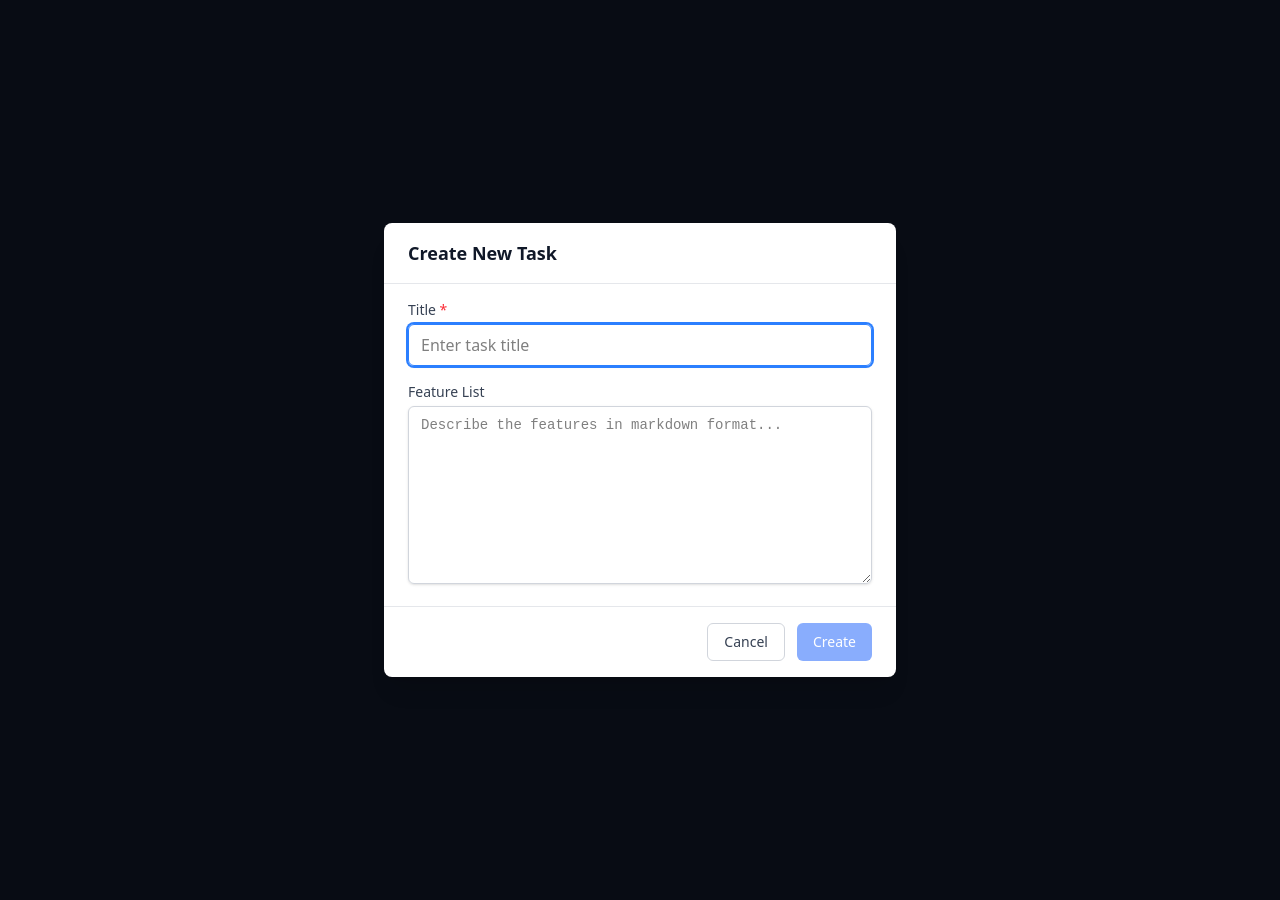
Scenario: TaskCreateModal › Loading State › should show loading state while creating
The image size is (1280, 900).
Type "Test Task" into the field labelled "Title *" at (640, 345), box [408,324,872,366]
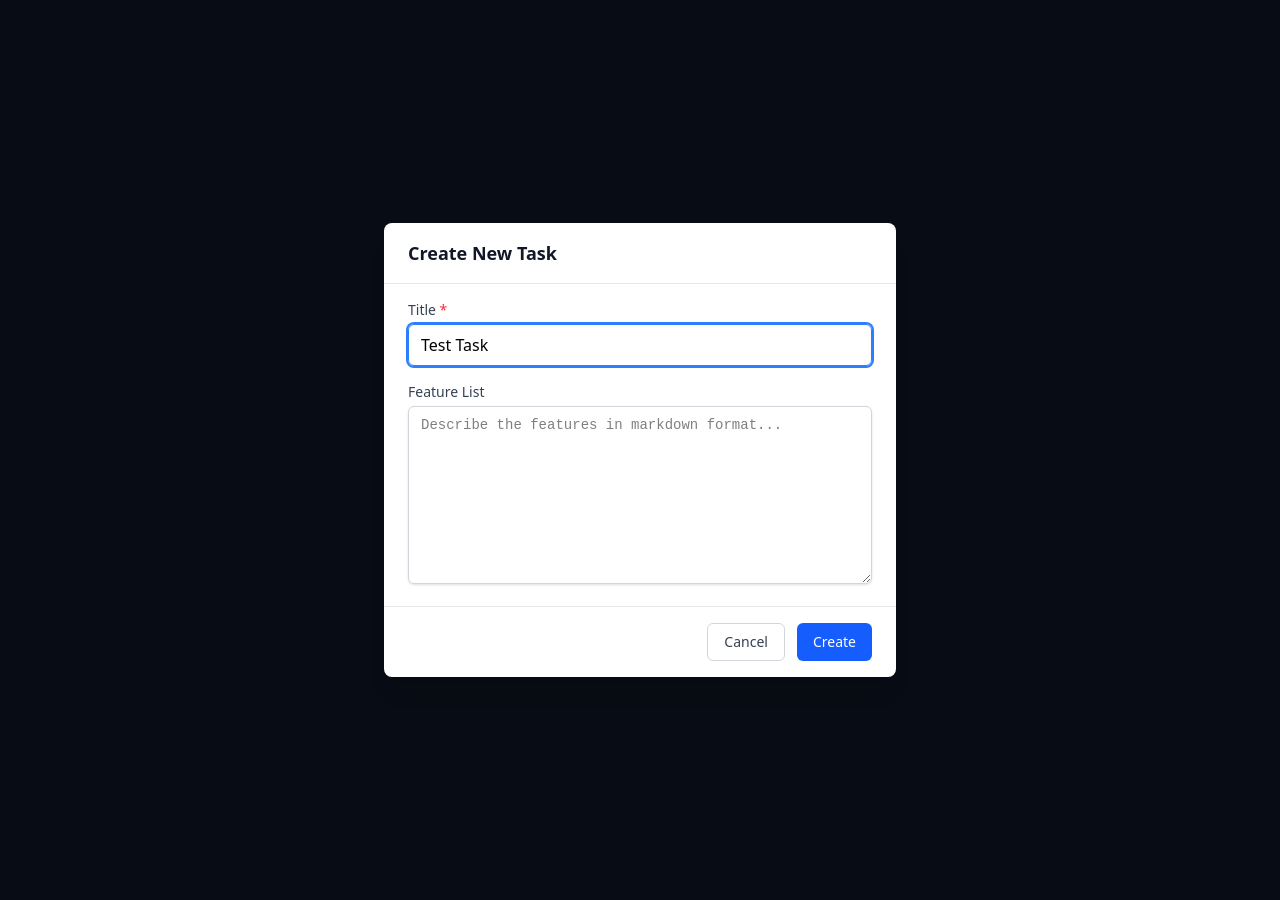
Click the button "Create" at (834, 642), box [797,623,872,661]
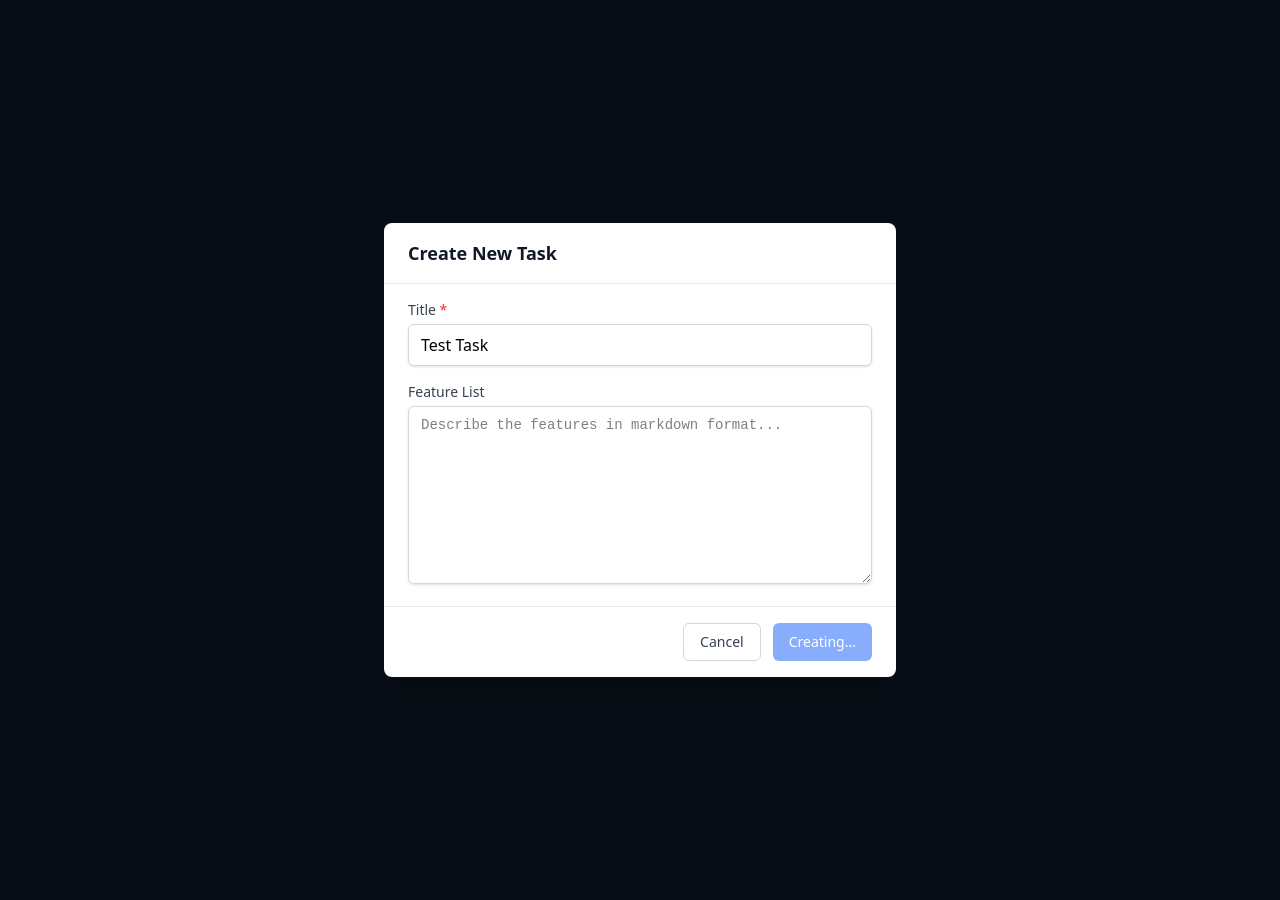
Check: the button "Creating..." is shown, box [773,623,872,661]
